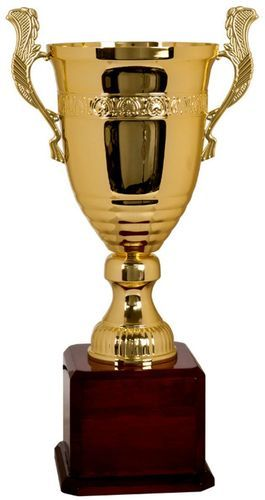trophy: (5, 1, 262, 498)
